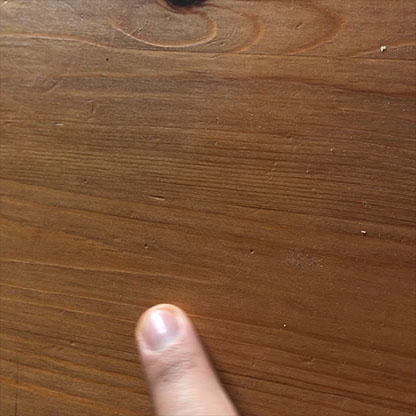fingertip: (128, 295, 211, 378)
